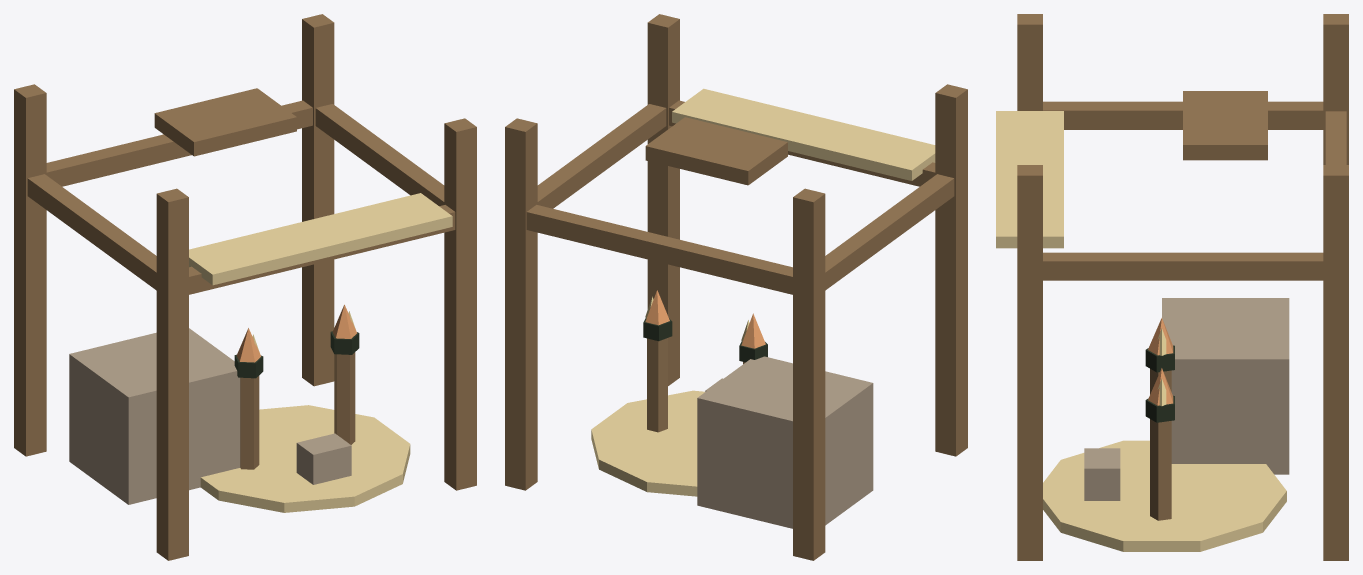
Rendered from jungle-scaffold.glb.
3 views of the same model, side by side, from view 1: azimuth 30°, elevation 25°; view 2: azimuth 150°, elevation 25°; view 3: azimuth 270°, elevation 25° (orthographic). The views are drawn at different scales.
Parts seen in each view (by area): view 1: jungle-scaffold; view 2: jungle-scaffold; view 3: jungle-scaffold.
Boxes of the visible parts, x1,y1,x2,y2 form: jungle-scaffold: [14, 14, 476, 560]; jungle-scaffold: [505, 14, 967, 560]; jungle-scaffold: [996, 14, 1348, 560].
Bounding box in the file's own units: 0.9 × 1 × 0.83.
